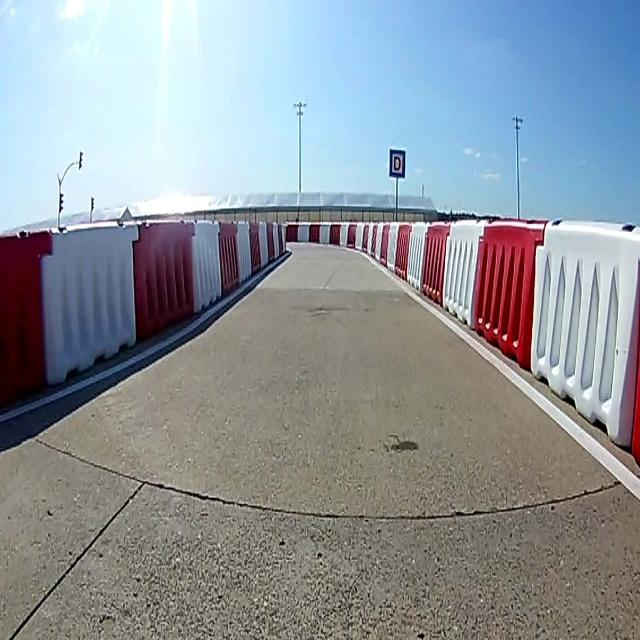durak: (389, 148, 406, 180)
